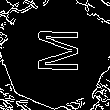M_W: (29, 31, 81, 79)
